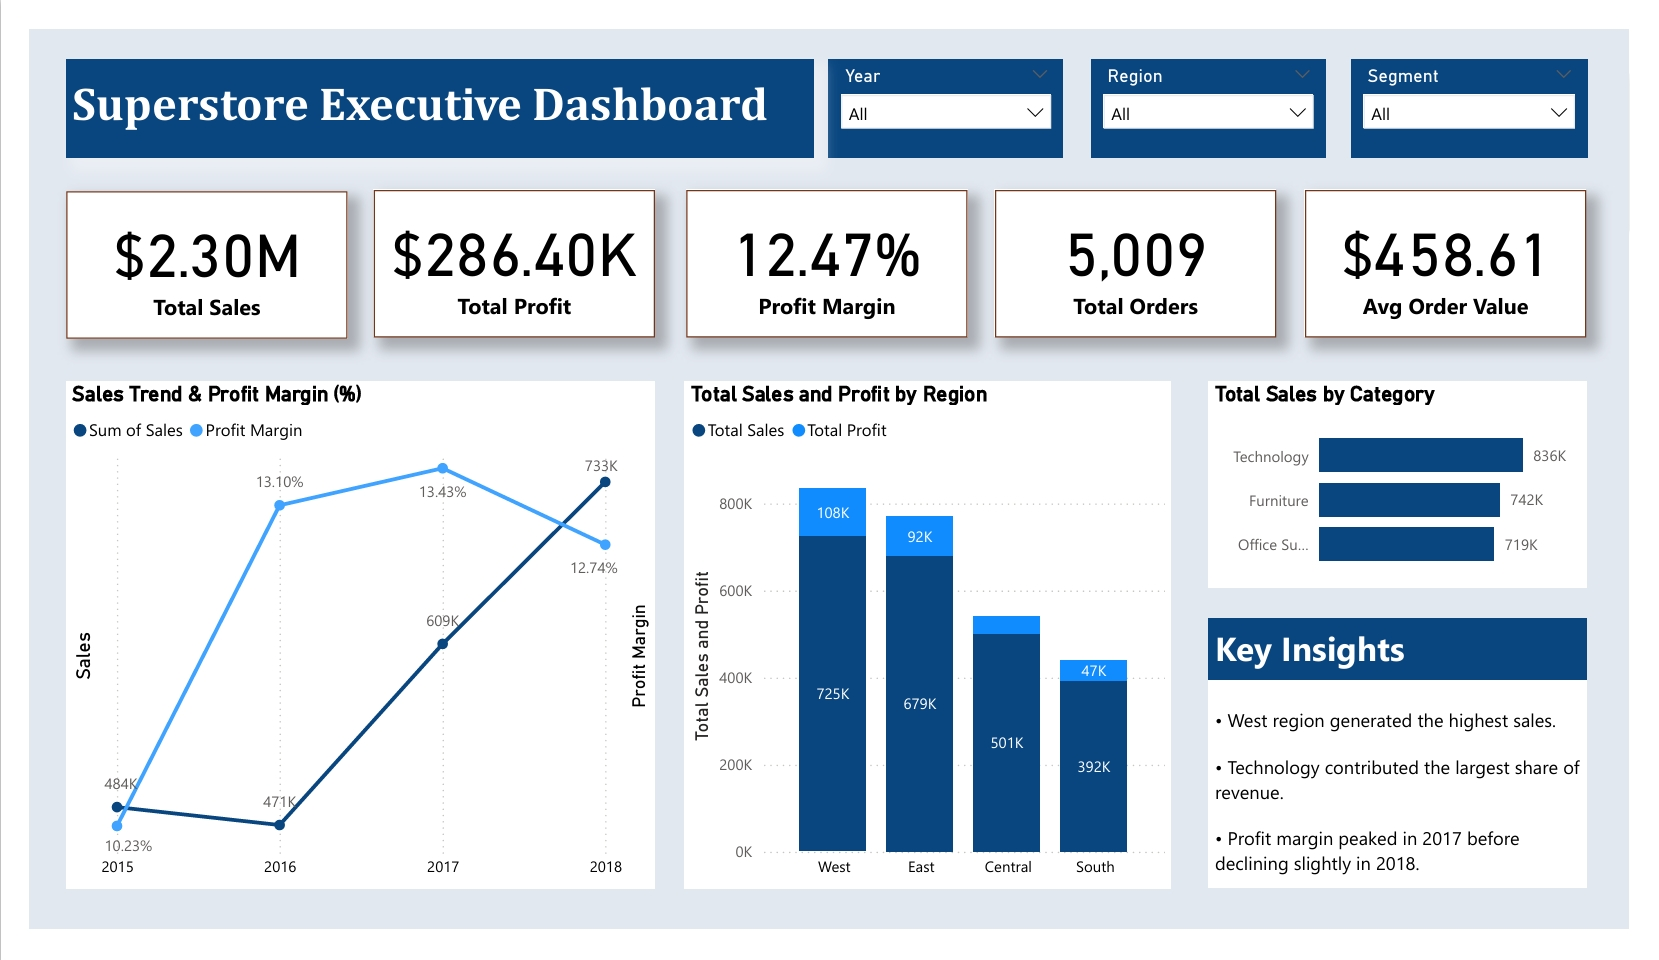

What the dashboard file says about the page in this screenshot:
{"tool":"powerbi","page":{"name":"Executive Dashboard","canvas":[1280,720],"ordinal":0},"visuals":[{"type":"card","fields":{"Values":["Orders1.Avg Order Value"]},"box":[1021.4,128.6,224.3,118.6],"z":0},{"type":"card","fields":{"Values":["Orders1.Profit Margin"]},"box":[524.7,128,225,118],"z":1000},{"type":"card","fields":{"Values":["Orders1.Total Orders"]},"box":[771.8,128,225,118],"z":2000},{"type":"card","fields":{"Values":["Orders1.Total Profit"]},"box":[274.7,128,225,118],"z":3000},{"type":"card","fields":{"Values":["Orders1.Total Sales"]},"box":[28.6,128.6,225,118.6],"z":4000},{"type":"slicer","fields":{"Values":["Orders1.Order Date.Variation.Date Hierarchy.Year"]},"box":[638.6,24.3,188.6,78.6],"z":5000},{"type":"slicer","fields":{"Values":["Orders1.Region"]},"box":[848.6,24.3,188.6,78.6],"z":6000},{"type":"slicer","fields":{"Values":["Orders1.Segment"]},"box":[1057.1,24.3,188.6,78.6],"z":7000},{"type":"lineChart","title":"Sales Trend & Profit Margin (%)","fields":{"Category":["Orders1.Order Date.Variation.Date Hierarchy.Year","Orders1.Order Date.Variation.Date Hierarchy.Month"],"Y":["Sum(Orders1.Sales)"],"Y2":["Orders1.Profit Margin"]},"box":[28.6,281.4,471.4,405.7],"z":8000},{"type":"columnChart","title":"Total Sales and Profit by Region","fields":{"Category":["Orders1.Region"],"Y":["Orders1.Total Sales","Orders1.Total Profit"]},"box":[524.3,281.4,388.6,405.7],"z":9000},{"type":"barChart","fields":{"Category":["Orders1.Category"],"Y":["Orders1.Total Sales"]},"box":[942.9,281.4,302.9,164.3],"z":10000},{"type":"textbox","box":[28.6,24.3,598.6,78.6],"z":11000},{"type":"textbox","box":[942.9,520,302.9,167.1],"z":12000},{"type":"textbox","box":[942.9,471.4,302.9,48.6],"z":13000}]}

Visuals, with their boxes in screenshot pixels (x1, y1, x2, y2), scaled from the page's 1280x720 canvas onto the 1659x960 screenshot:
card - Orders1.Avg Order Value: [left=1324, top=171, right=1615, bottom=330]
card - Orders1.Profit Margin: [left=680, top=171, right=972, bottom=328]
card - Orders1.Total Orders: [left=1000, top=171, right=1292, bottom=328]
card - Orders1.Total Profit: [left=356, top=171, right=648, bottom=328]
card - Orders1.Total Sales: [left=37, top=171, right=329, bottom=330]
slicer - Orders1.Order Date.Variation.Date Hierarchy.Year: [left=828, top=32, right=1072, bottom=137]
slicer - Orders1.Region: [left=1100, top=32, right=1344, bottom=137]
slicer - Orders1.Segment: [left=1370, top=32, right=1615, bottom=137]
"Sales Trend & Profit Margin (%)" lineChart: [left=37, top=375, right=648, bottom=916]
"Total Sales and Profit by Region" columnChart: [left=680, top=375, right=1183, bottom=916]
barChart - Orders1.Category x Orders1.Total Sales: [left=1222, top=375, right=1615, bottom=594]
textbox: [left=37, top=32, right=813, bottom=137]
textbox: [left=1222, top=693, right=1615, bottom=916]
textbox: [left=1222, top=629, right=1615, bottom=693]
